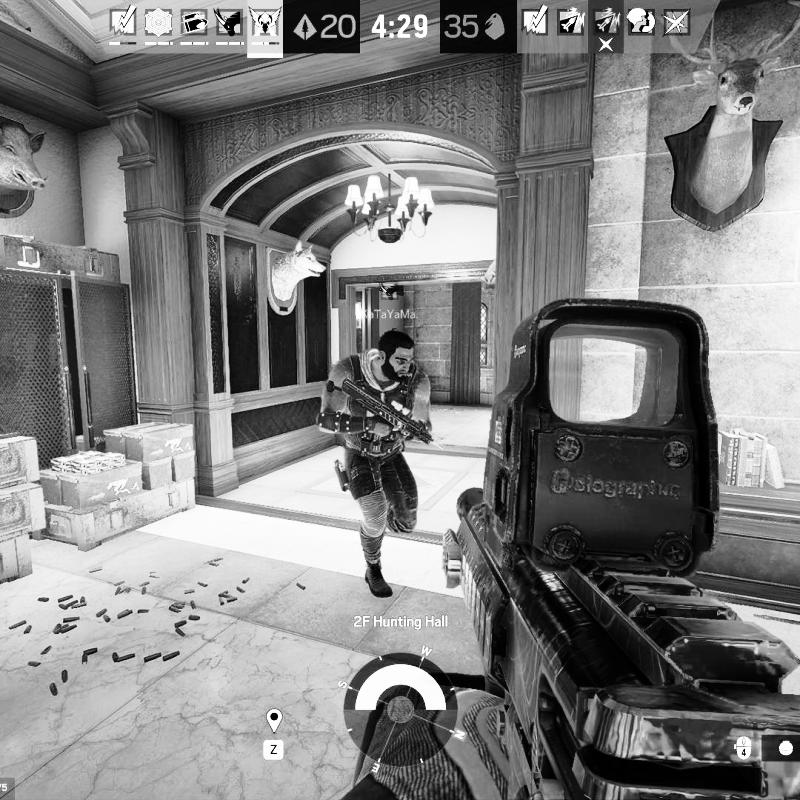Character: (316, 328, 443, 604)
Friend_label: (357, 276, 419, 322)
Head: (373, 329, 418, 385)
